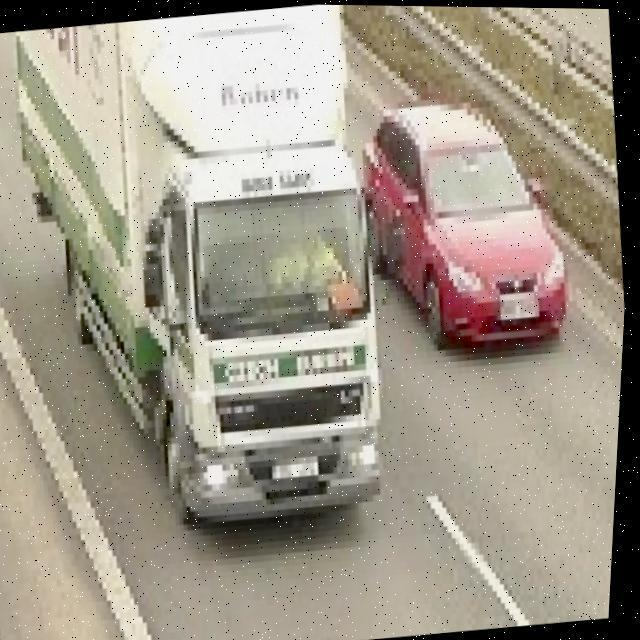truck: (0, 0, 416, 527)
